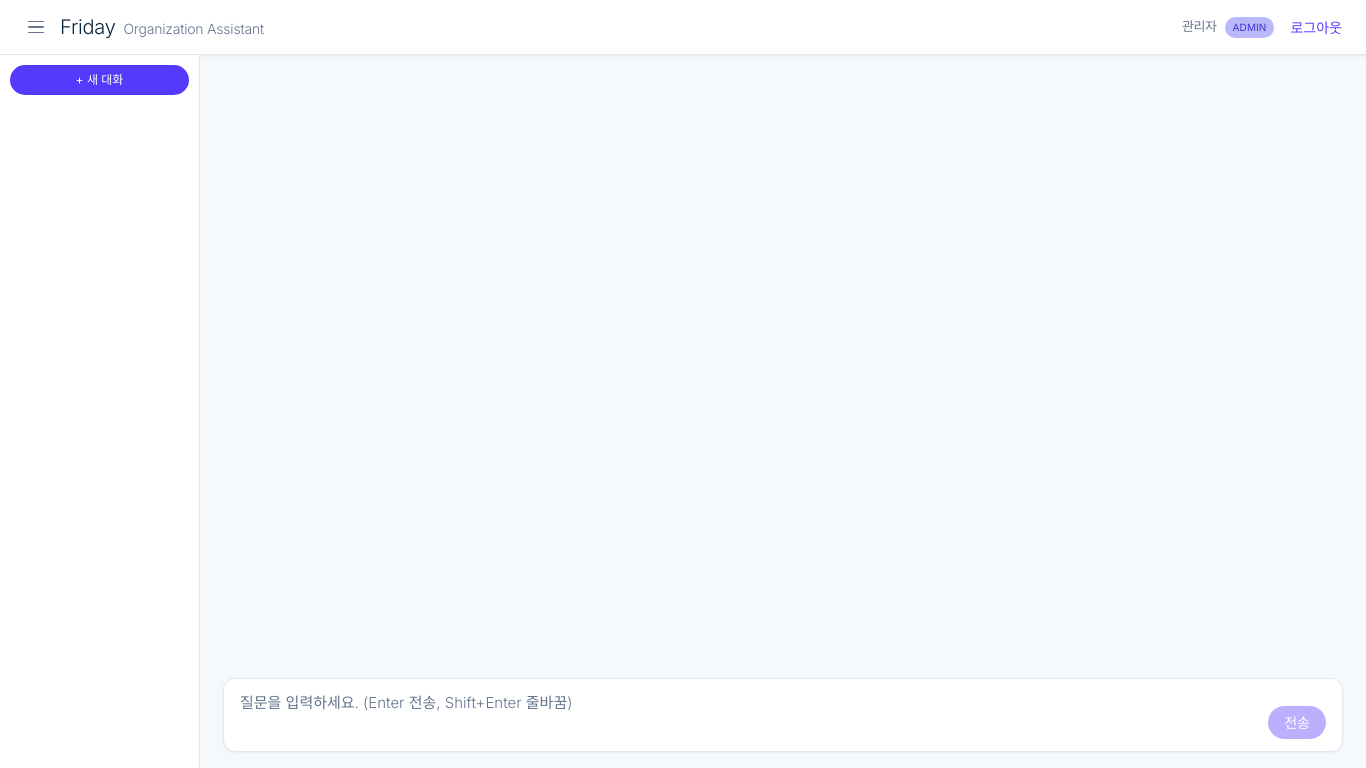
Test: ChatPage clarify 흐름 › clarify 이벤트 수신 시 선택지 버튼을 렌더한다
Type "연차 어떻게 해?" into the text box. click: {"x": 748, "y": 715}
box: left=240, top=691, right=1256, bottom=739
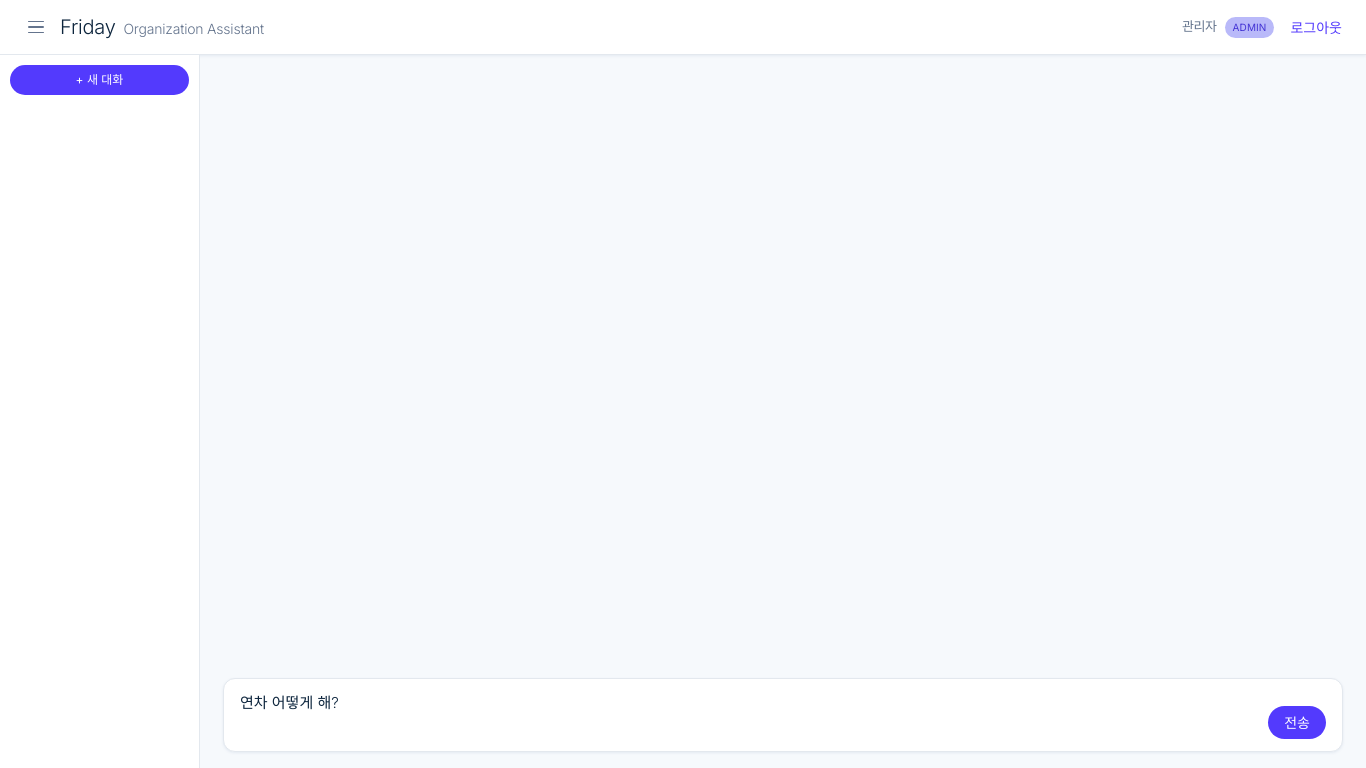
Click the button "전송". click: {"x": 1297, "y": 722}
box: left=1268, top=706, right=1326, bottom=739
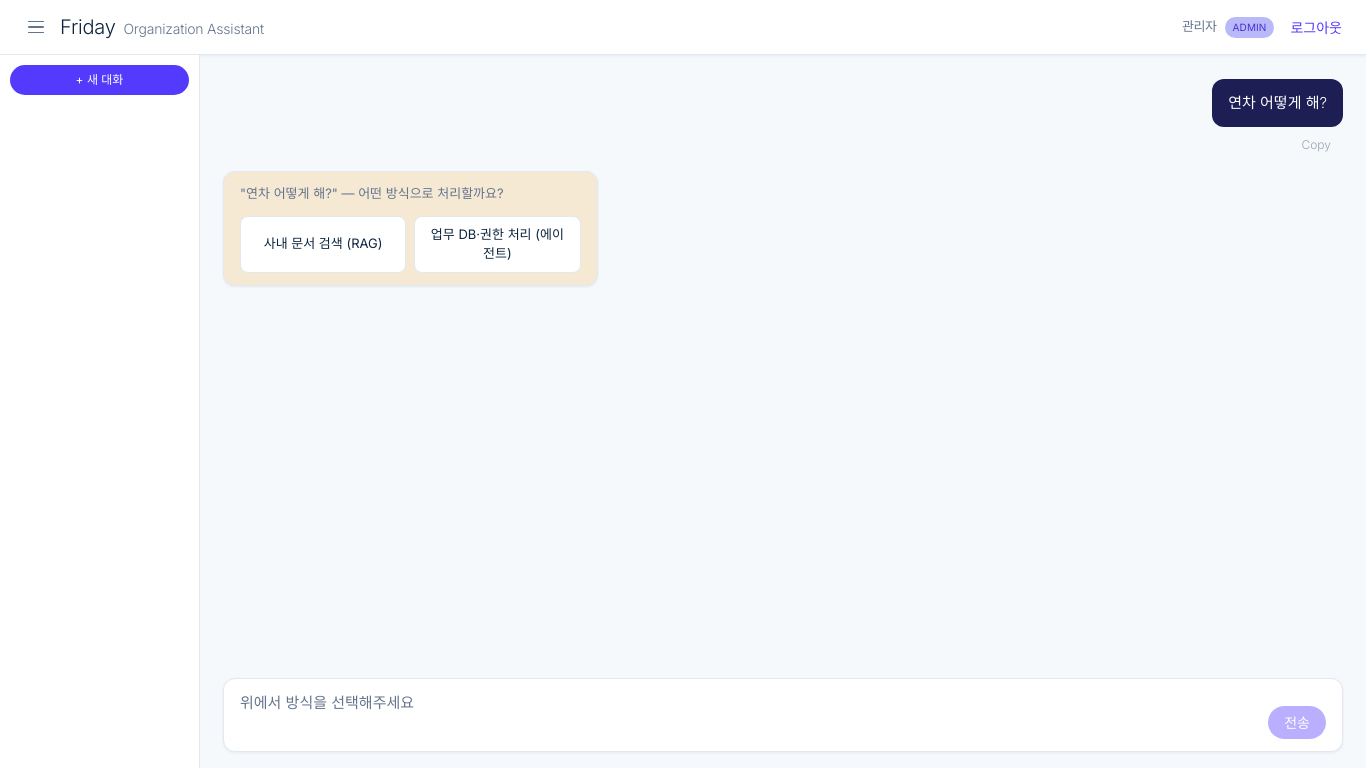
Expected: the button "사내 문서 검색 (RAG)" is shown, left=240, top=216, right=406, bottom=272
Expected: the button "업무 DB·권한 처리 (에이전트)" is shown, left=414, top=216, right=581, bottom=272
Expected: the text box with placeholder "위에서 방식을 선택해주세요" is shown, left=240, top=691, right=1256, bottom=739
